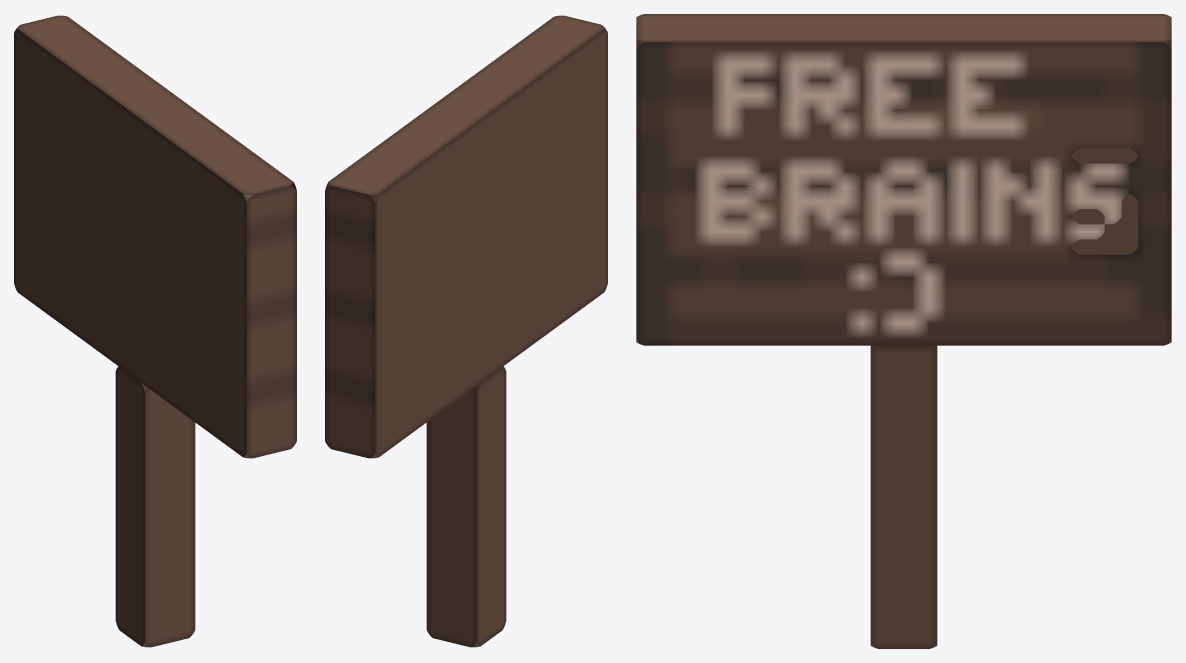
File: signage.fbx
The picture shows the model from 3 angles, left to right: view 1: azimuth 30°, elevation 25°; view 2: azimuth 150°, elevation 25°; view 3: azimuth 270°, elevation 25°; orthographic projection. The views are drawn at different scales.
Parts seen in each view (by area): view 1: cuboid_1, cuboid; view 2: cuboid_1, cuboid; view 3: cuboid_1, cuboid.
Boxes of the visible parts, x1,y1,x2,y2 form: cuboid_1: [14, 15, 296, 458]; cuboid: [115, 366, 195, 647]; cuboid_1: [325, 15, 607, 458]; cuboid: [426, 366, 506, 647]; cuboid_1: [636, 14, 1171, 345]; cuboid: [870, 345, 937, 648].
Bounding box in the file's own units: 12.5 × 125 × 100.
1 material, 1 textured.
